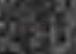eight: (38, 19, 47, 33), (18, 21, 27, 34)
four: (28, 20, 37, 34)
seven: (48, 19, 57, 32)
